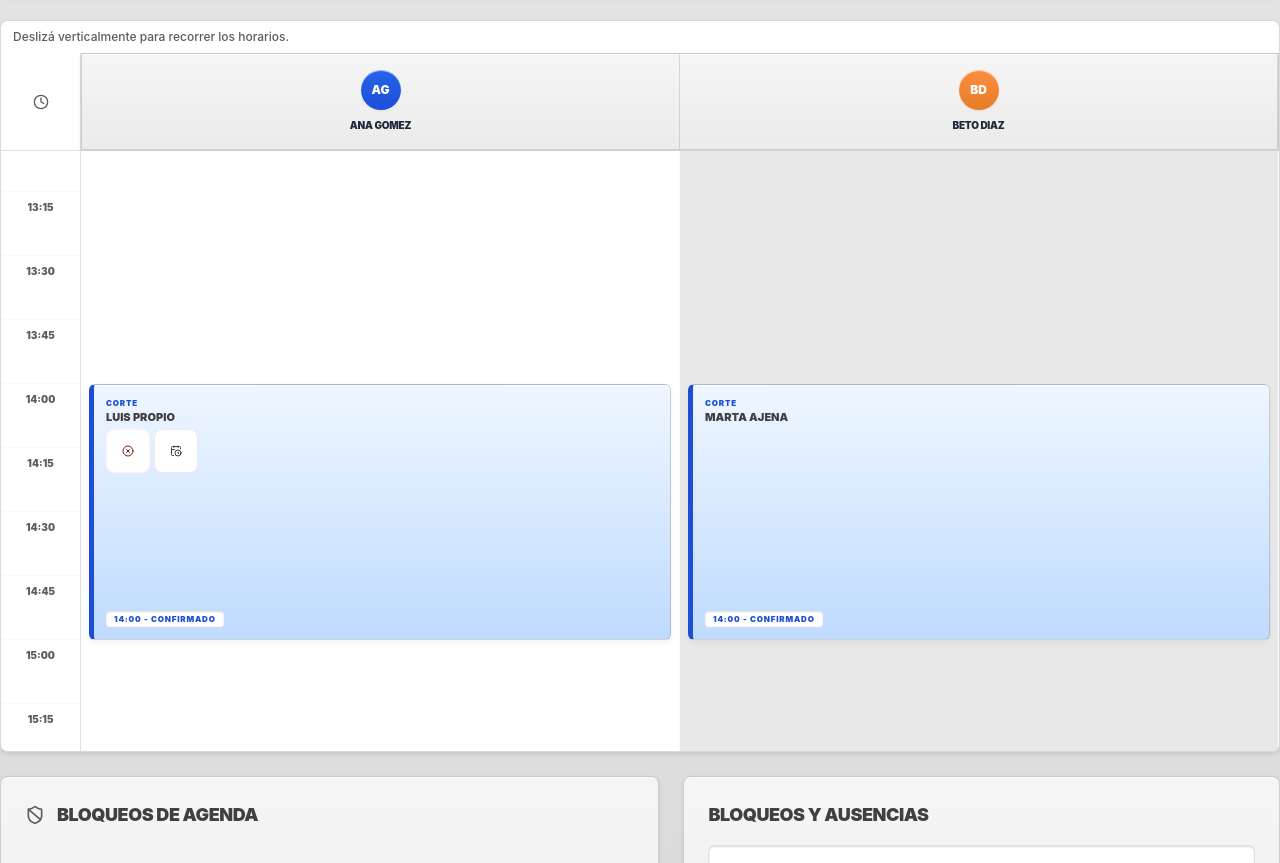
Scenario: CalendarContainer - cancelar y reprogramar (FF-31) › un 403 dice que solo cancela los de su agenda
The width and height of the screenshot is (1280, 863).
(page scrolled)
Step 1. Click the button named "Cancelar turno" → coordinates (128, 451), box [106,429,150,473]
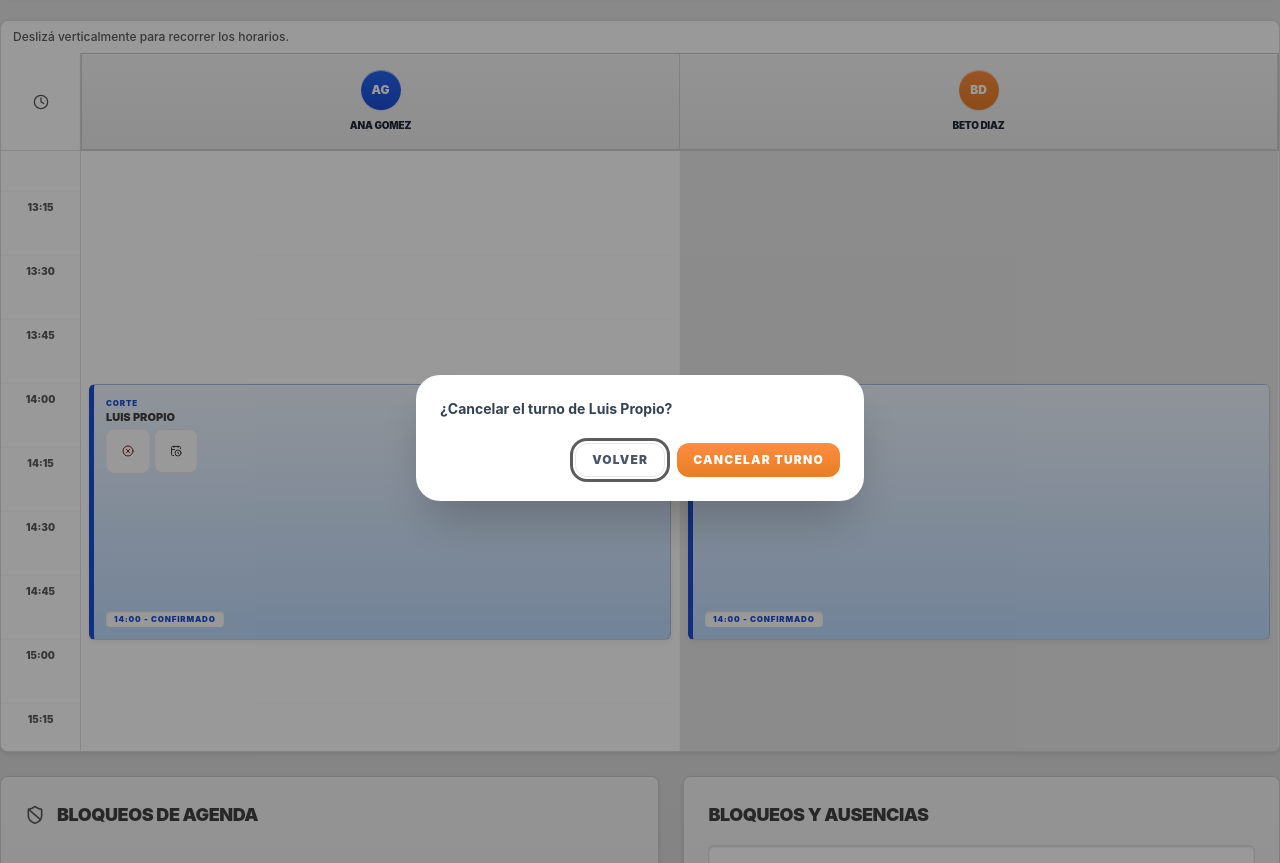
Step 2. Click the button "Cancelar turno" → coordinates (759, 460), box [677,443,840,477]
(page scrolled)
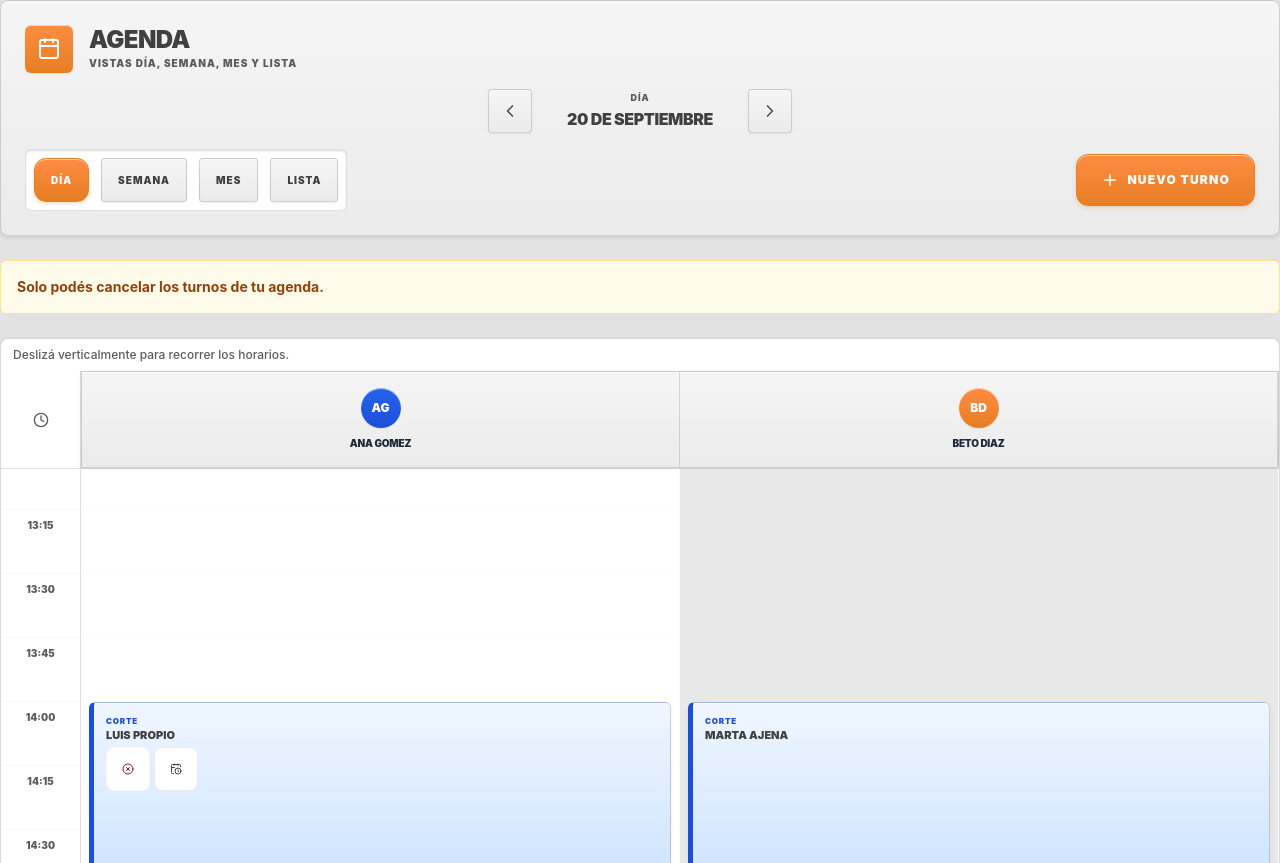
Check: the text "Solo podés cancelar los turnos de tu agenda." is shown, box [0,260,1279,314]
